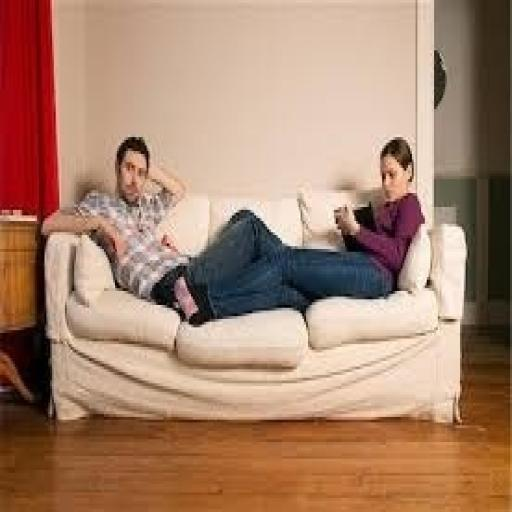sitting: (44, 128, 425, 324)
